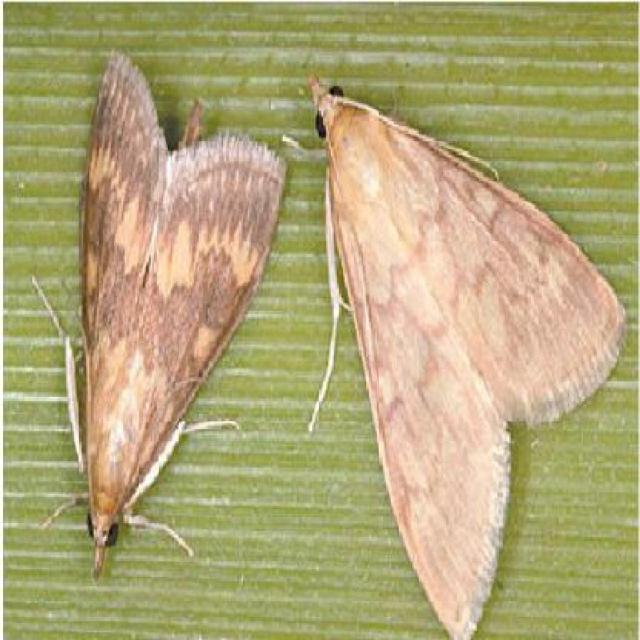stem-borer: (303, 66, 629, 640), (33, 44, 290, 586)
